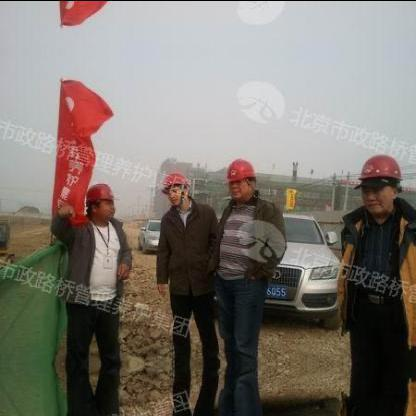Helmet: (354, 149, 402, 215), (223, 155, 256, 201), (83, 178, 114, 220), (159, 166, 189, 206)
